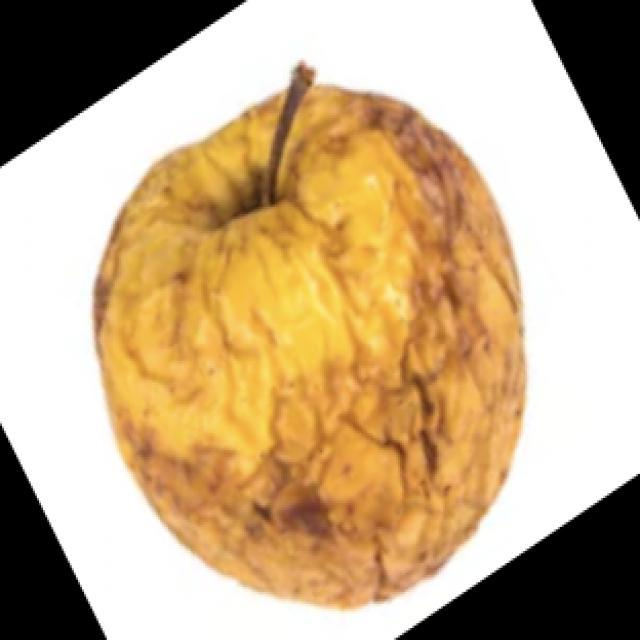Rotten: (73, 88, 542, 597)
